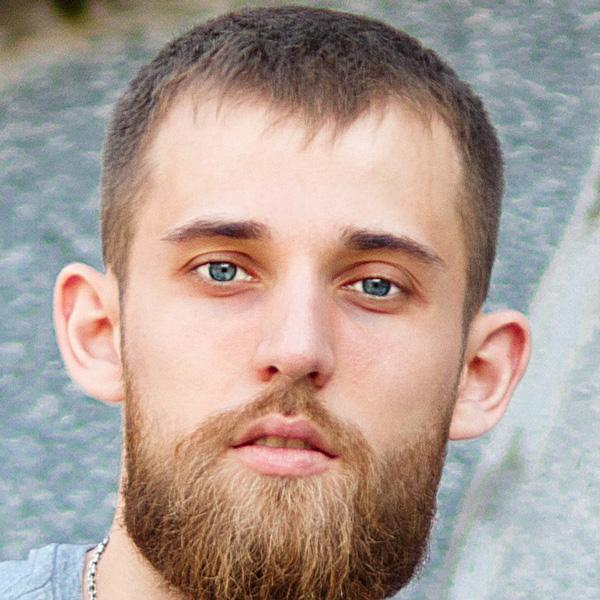Eyes: (326, 254, 421, 319), (173, 242, 272, 301)
